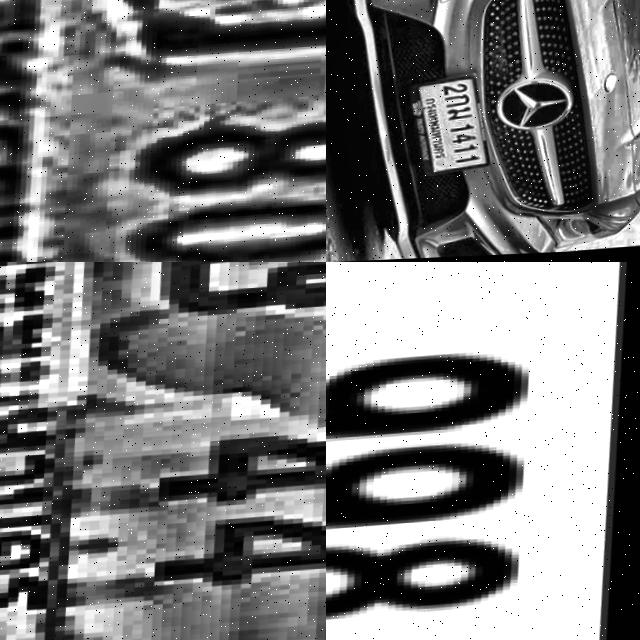license-plate: (0, 262, 326, 640), (326, 262, 640, 640), (0, 0, 326, 262), (416, 68, 511, 178)
